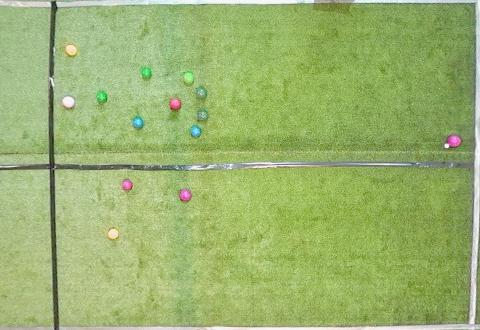blue: (191, 126, 202, 138), (133, 117, 143, 129)
green: (197, 110, 208, 121), (96, 92, 107, 103), (184, 72, 194, 84), (197, 87, 207, 98), (142, 68, 152, 78)
red: (448, 135, 462, 147), (62, 96, 75, 108), (170, 98, 181, 110), (180, 189, 191, 201), (122, 180, 133, 190)
vline: (1, 1, 61, 329), (467, 1, 479, 329)
white: (444, 143, 449, 148)
yellow: (66, 45, 77, 56), (108, 228, 119, 239)
